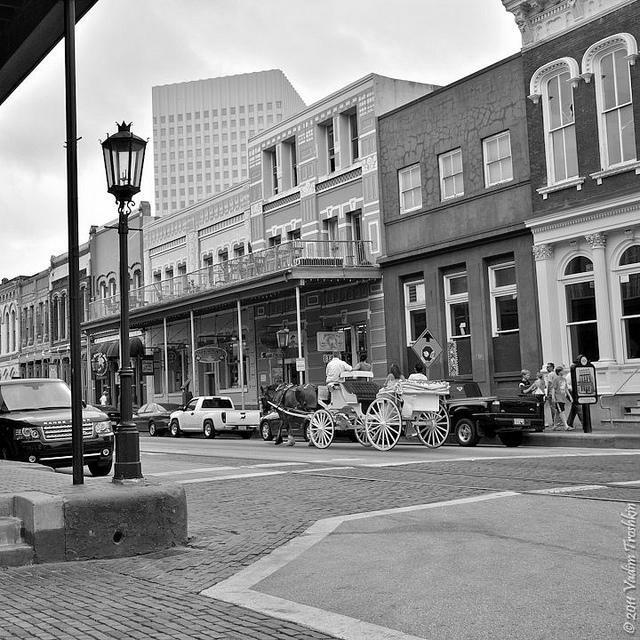vehicle: (0, 377, 544, 475), (167, 396, 263, 440), (260, 386, 330, 442), (132, 403, 184, 439), (91, 405, 121, 429)
